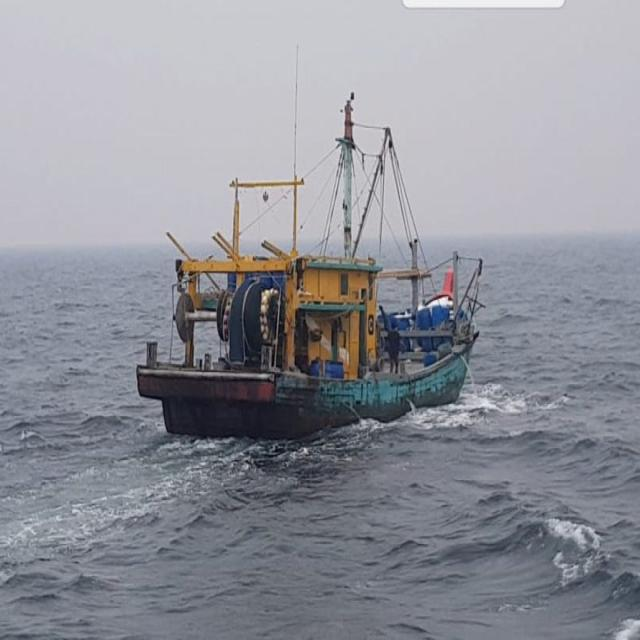Fishing Boat: (134, 110, 492, 472)
